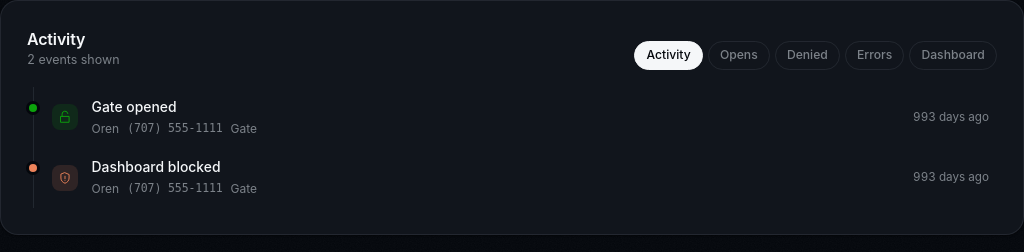
Scenario: ActivityPanel › hides routine dashboard views by default and exposes them in their own filter
Check: the text "2 events shown" is shown, box [27,51,120,70]
Click the button "Dashboard" at (953, 55), box [909,40,997,70]
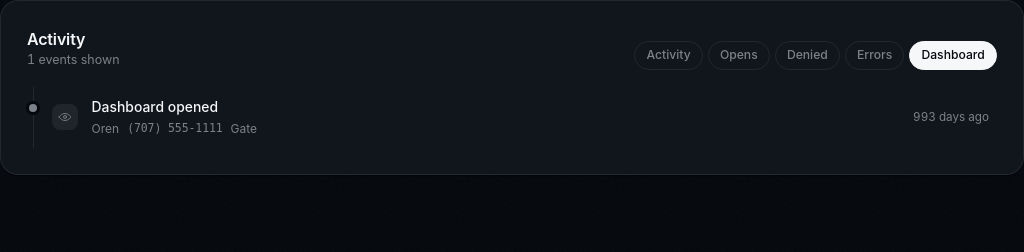
Check: the text "1 events shown" is shown, box [27,51,120,70]
